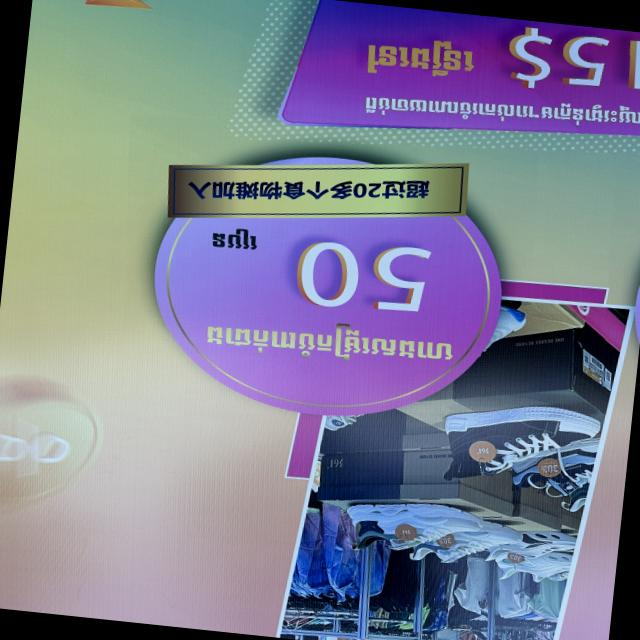774: (177, 223, 438, 320)
Yolov11_80vkh: (201, 321, 459, 365)
